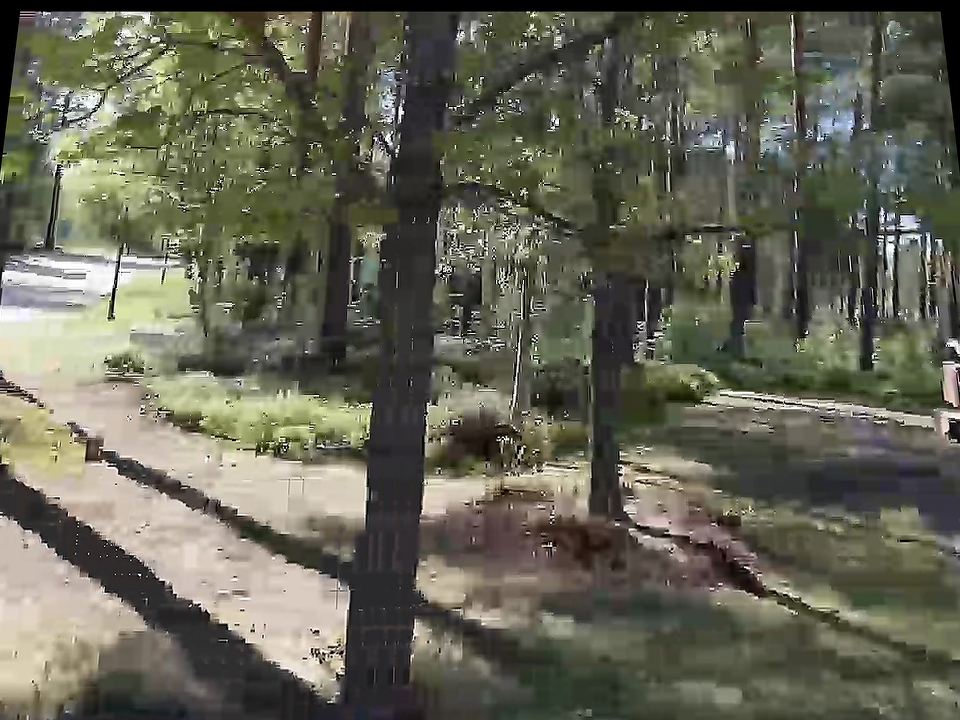branch: (560, 203, 820, 261), (446, 168, 593, 235)
trunk: (318, 94, 461, 712), (583, 85, 652, 544), (782, 45, 828, 364), (853, 71, 890, 406)
